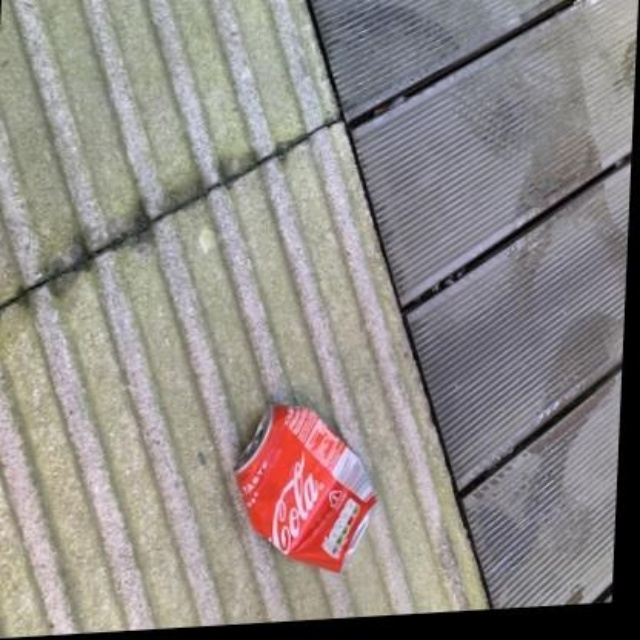trash: (235, 405, 375, 571)
